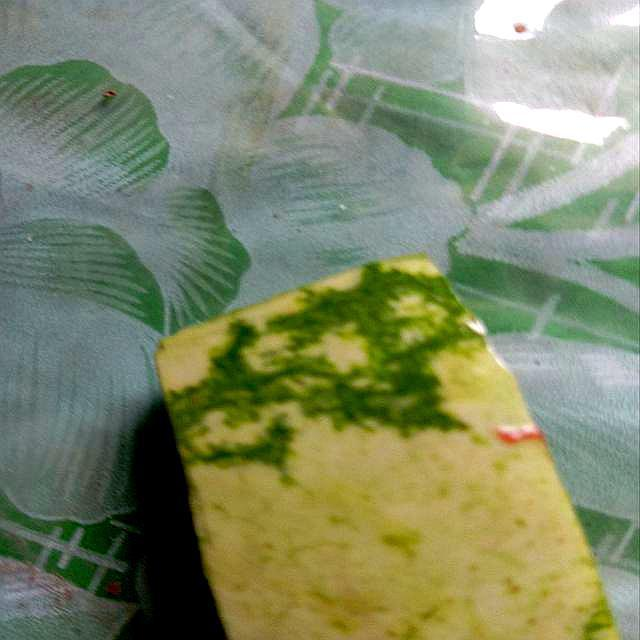Biodegradable: (145, 240, 630, 640)
